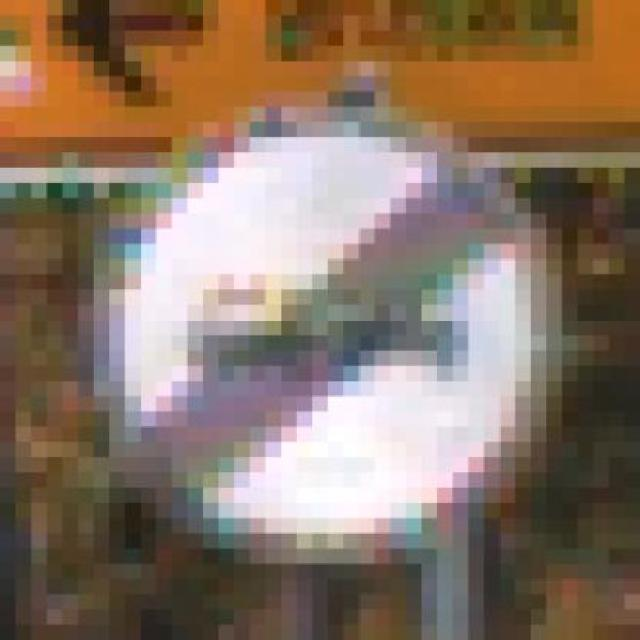No_Over_Taking: (78, 92, 578, 579)
